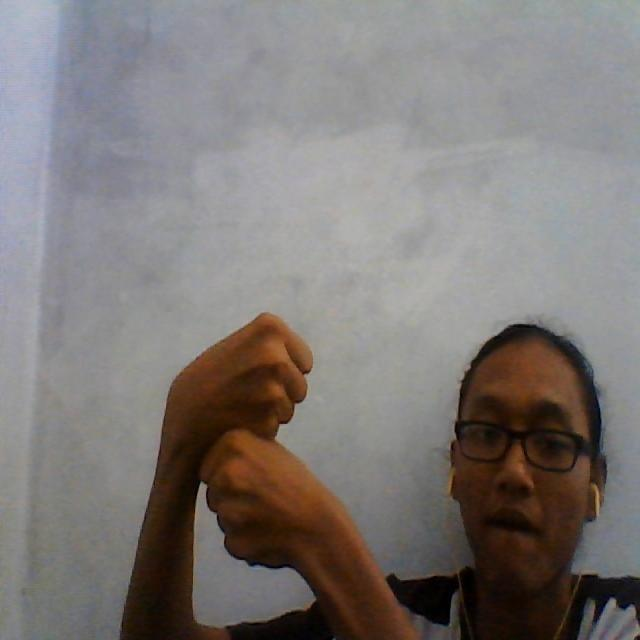G: (134, 272, 378, 596)
